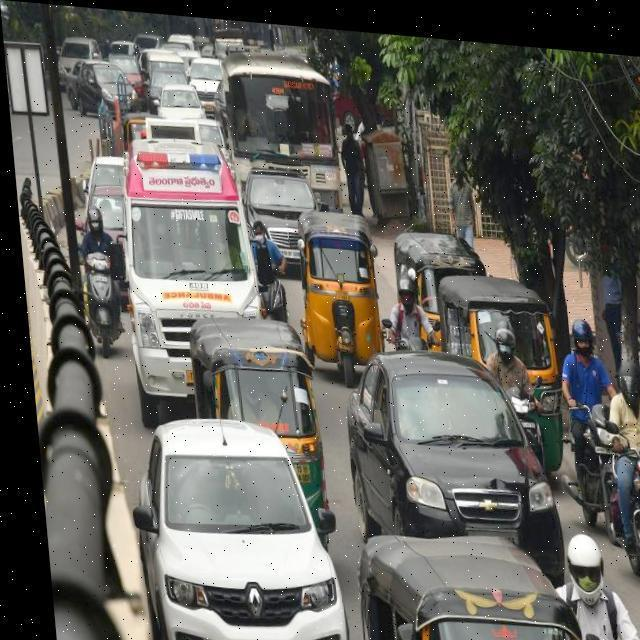Ambulance: (16, 26, 640, 640), (330, 334, 558, 572), (113, 405, 341, 640), (106, 130, 270, 436), (340, 515, 578, 640), (425, 260, 564, 468), (207, 37, 344, 209), (284, 200, 386, 385), (538, 519, 640, 640), (372, 273, 436, 349), (440, 574, 532, 615)
